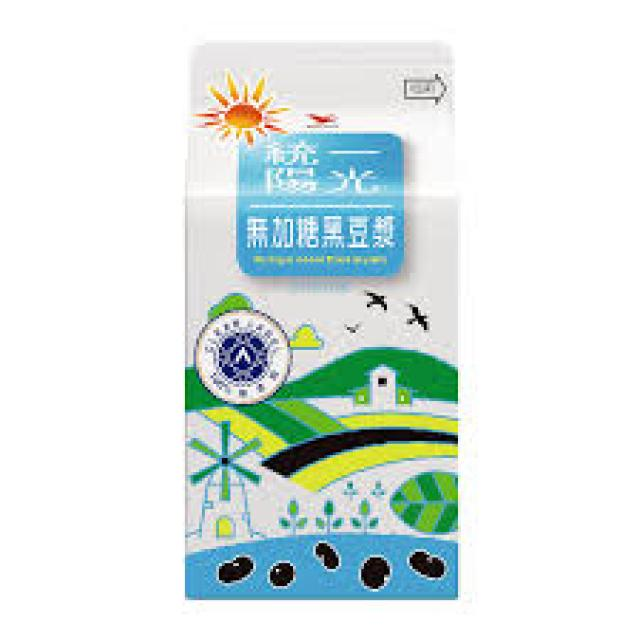TongYi_UnsweetenedBlackSoyMilk: (171, 35, 469, 603)
